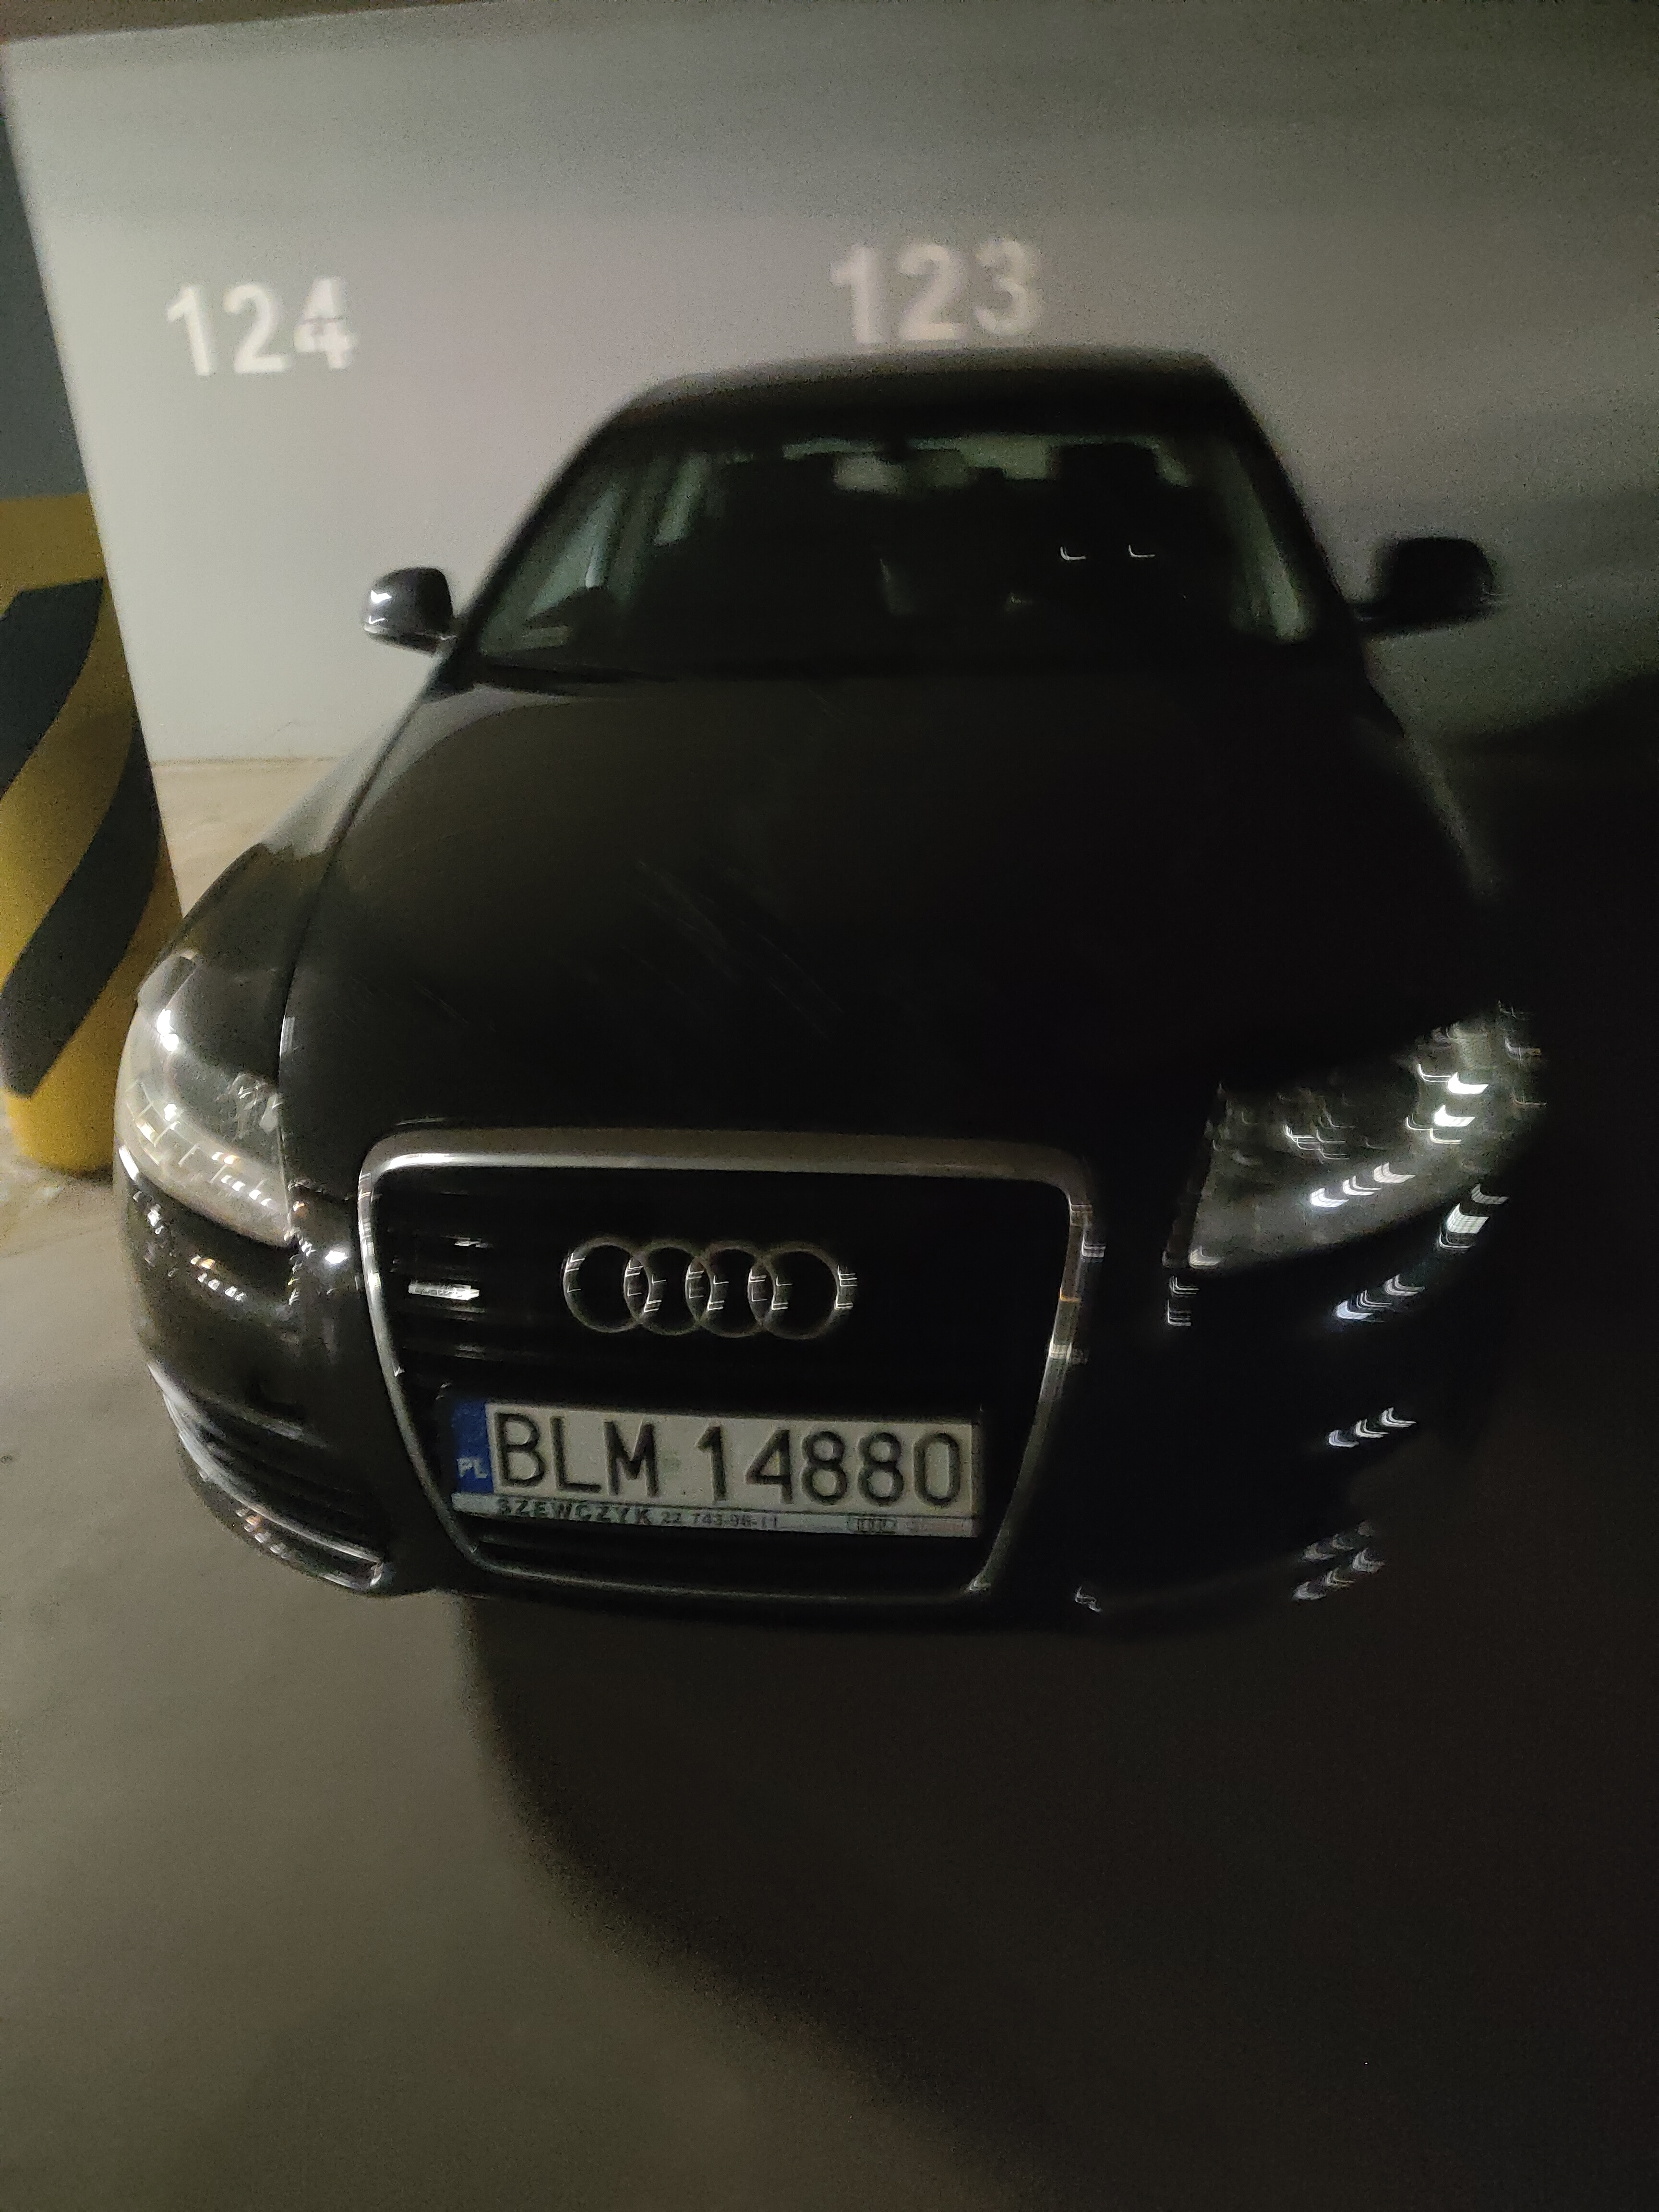number_plate: (448, 1387, 976, 1552)
